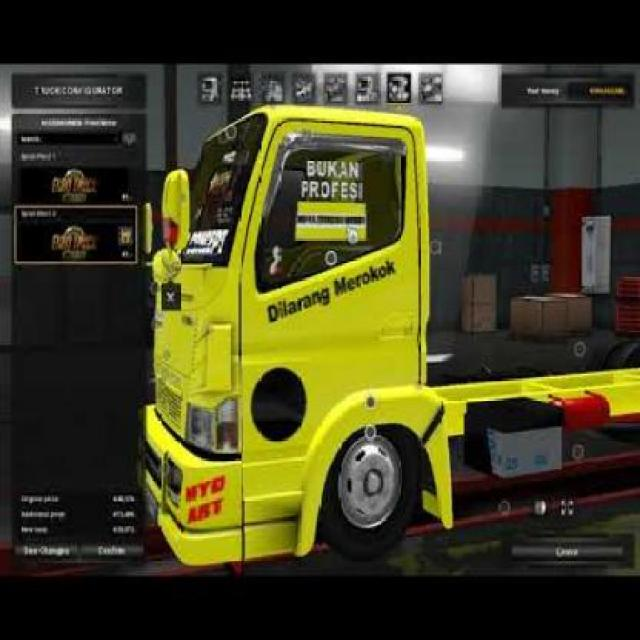truck: (141, 110, 639, 567)
